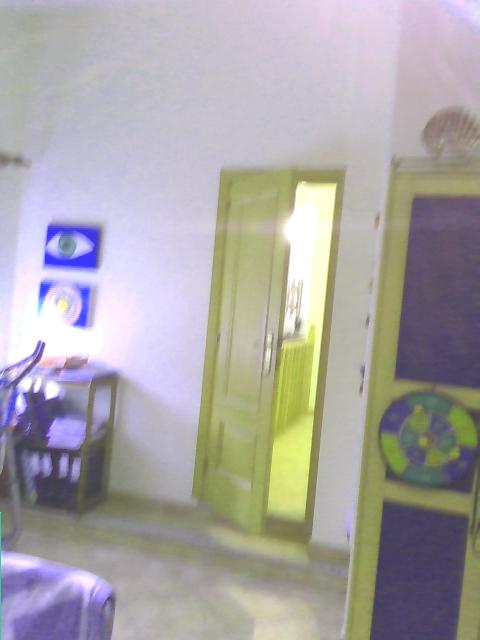semi_door: (188, 159, 345, 545)
